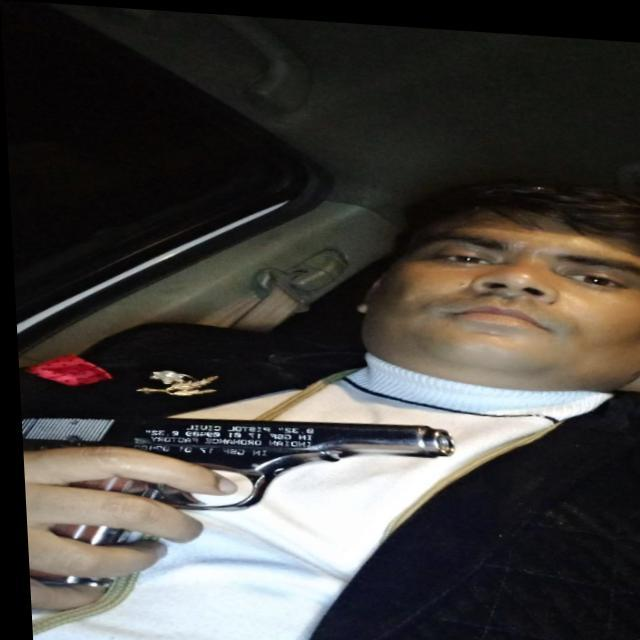weapon: (16, 391, 472, 610)
